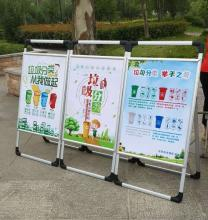bill: (120, 58, 198, 166), (62, 55, 125, 153), (16, 53, 68, 138)
